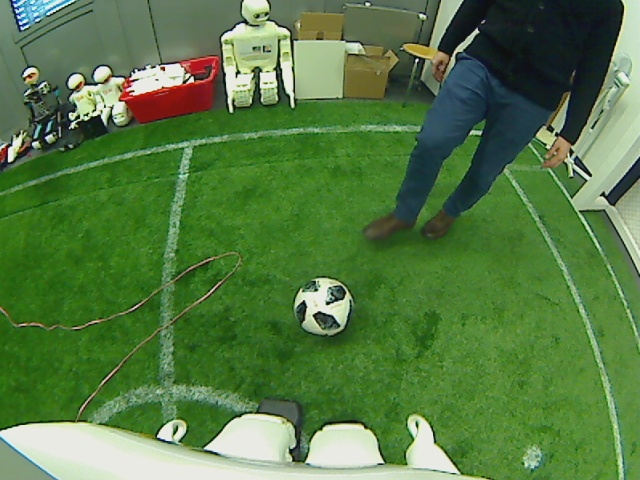ball: (290, 274, 354, 339)
